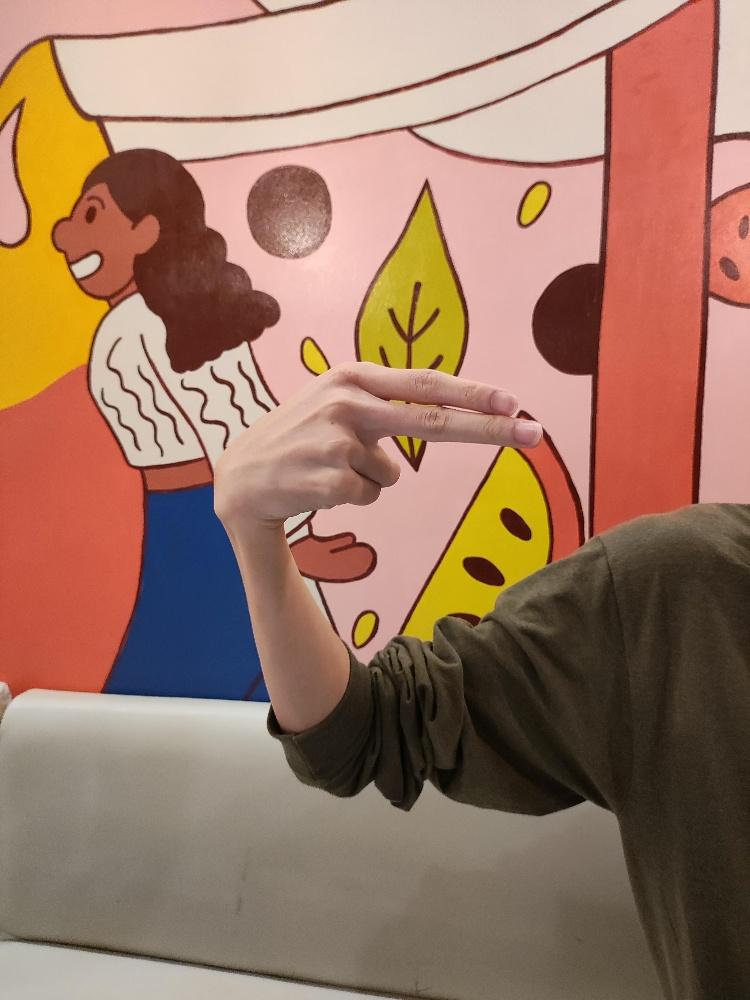h: (210, 355, 547, 526)
